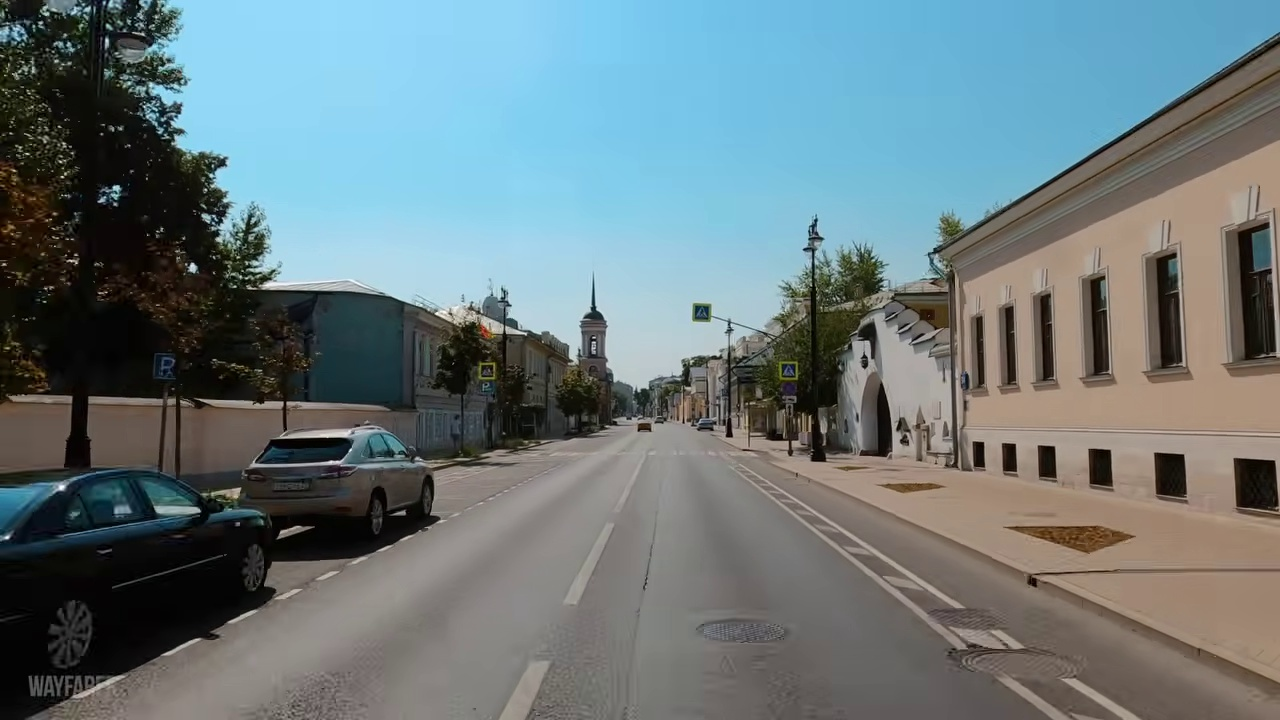apagada: (793, 218, 824, 262)
